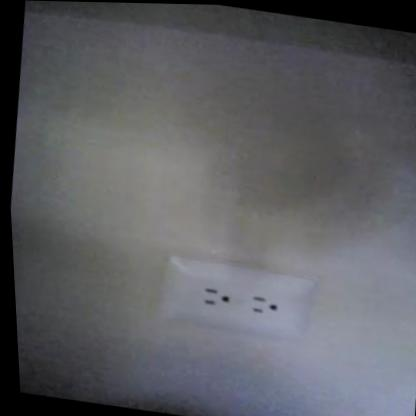OUTLET: (152, 253, 319, 345)
